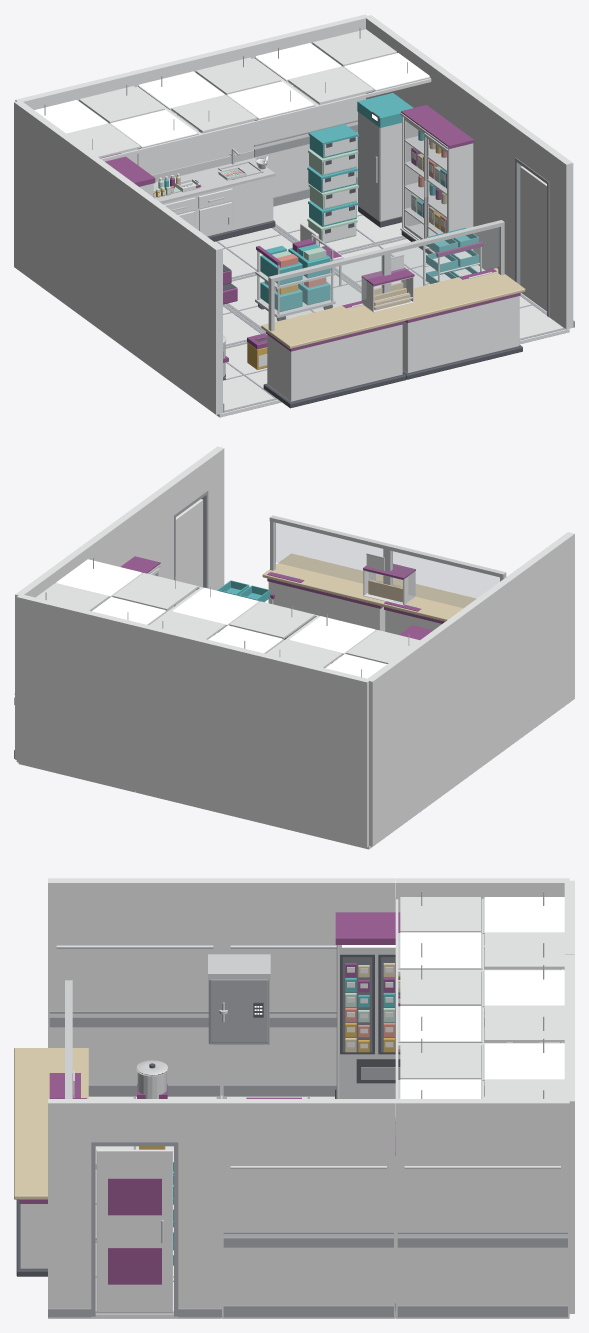
File: pharmacy-and-high-street-chemist-dispensary-bench-mid--6437734f__37549.glb
3 renders of one model, top to bottom at view 1: azimuth 30°, elevation 25°; view 2: azimuth 150°, elevation 25°; view 3: azimuth 270°, elevation 25°, orthographic. The views are drawn at different scales.
Parts seen in each view (by area): view 1: 014-stock-room-wall-module/0, 013-stock-room-wall-module/0, 012-stock-room-wall-module/0, 017-interior-door-bay/0, 018-dispensary-counter/1, 016-stock-room-wall-module/0, 011-stock-room-wall-module/0, 019-dispensary-counter/1, 021-dispensary-bench-run/1, 031-drug-cabinet-sliding/1, 042-ceiling-grid-module-lit/0, 043-ceiling-grid-module-lit/0 (+45 smaller); view 2: 009-stock-room-wall-module/0, 010-stock-room-wall-module/0, 011-stock-room-wall-module/0, 012-stock-room-wall-module/0, 013-stock-room-wall-module/0, 014-stock-room-wall-module/0, 017-interior-door-bay/0, 019-dispensary-counter/9, 018-dispensary-counter/9, 042-ceiling-grid-module-lit/0, 016-stock-room-wall-module/0, 043-ceiling-grid-module-lit/0 (+16 smaller); view 3: 016-stock-room-wall-module/0, 015-stock-room-wall-module/0, 014-stock-room-wall-module/0, 017-interior-door-bay/0, 013-stock-room-wall-module/0, 017-interior-door-bay/door-room/white, 041-ceiling-grid-module-lit/0, 042-ceiling-grid-module-lit/0, 041-ceiling-grid-module-lit/2, 042-ceiling-grid-module-lit/2, 043-ceiling-grid-module-lit/0, 043-ceiling-grid-module-lit/2 (+27 smaller).
Part boxes in pixels (x1,y1,x2,y2): 014-stock-room-wall-module/0: [148, 199, 222, 414]; 013-stock-room-wall-module/0: [81, 150, 155, 365]; 012-stock-room-wall-module/0: [14, 101, 87, 315]; 017-interior-door-bay/0: [499, 113, 573, 329]; 018-dispensary-counter/1: [267, 324, 402, 401]; 016-stock-room-wall-module/0: [431, 64, 505, 270]; 011-stock-room-wall-module/0: [249, 14, 368, 196]; 019-dispensary-counter/1: [402, 296, 519, 373]; 021-dispensary-bench-run/1: [137, 121, 273, 236]; 031-drug-cabinet-sliding/1: [402, 116, 473, 251]; 042-ceiling-grid-module-lit/0: [136, 57, 318, 137]; 043-ceiling-grid-module-lit/0: [253, 29, 431, 109]; 009-stock-room-wall-module/0: [250, 651, 369, 847]; 010-stock-room-wall-module/0: [133, 622, 253, 818]; 011-stock-room-wall-module/0: [16, 595, 136, 790]; 012-stock-room-wall-module/0: [366, 631, 439, 846]; 013-stock-room-wall-module/0: [433, 581, 507, 797]; 014-stock-room-wall-module/0: [501, 532, 574, 747]; 017-interior-door-bay/0: [150, 446, 224, 611]; 019-dispensary-counter/9: [275, 523, 382, 583]; 018-dispensary-counter/9: [392, 551, 499, 607]; 042-ceiling-grid-module-lit/0: [151, 587, 318, 653]; 016-stock-room-wall-module/0: [83, 496, 156, 566]; 043-ceiling-grid-module-lit/0: [36, 572, 202, 625]; 016-stock-room-wall-module/0: [222, 1099, 395, 1316]; 015-stock-room-wall-module/0: [396, 1099, 569, 1316]; 014-stock-room-wall-module/0: [48, 878, 221, 1095]; 017-interior-door-bay/0: [48, 1099, 221, 1308]; 013-stock-room-wall-module/0: [222, 878, 395, 1095]; 017-interior-door-bay/door-room/white: [96, 1149, 172, 1312]; 041-ceiling-grid-module-lit/0: [395, 897, 564, 970]; 042-ceiling-grid-module-lit/0: [395, 970, 564, 1044]; 041-ceiling-grid-module-lit/2: [400, 897, 564, 967]; 042-ceiling-grid-module-lit/2: [400, 970, 564, 1041]; 043-ceiling-grid-module-lit/0: [395, 1043, 564, 1121]; 043-ceiling-grid-module-lit/2: [400, 1043, 564, 1098].
Bounding box in the file's own units: 6.17 × 2.76 × 6.45.
